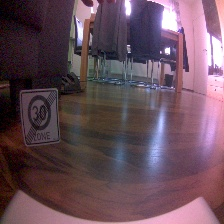dreisiger_zone_ende: (18, 87, 62, 148)
